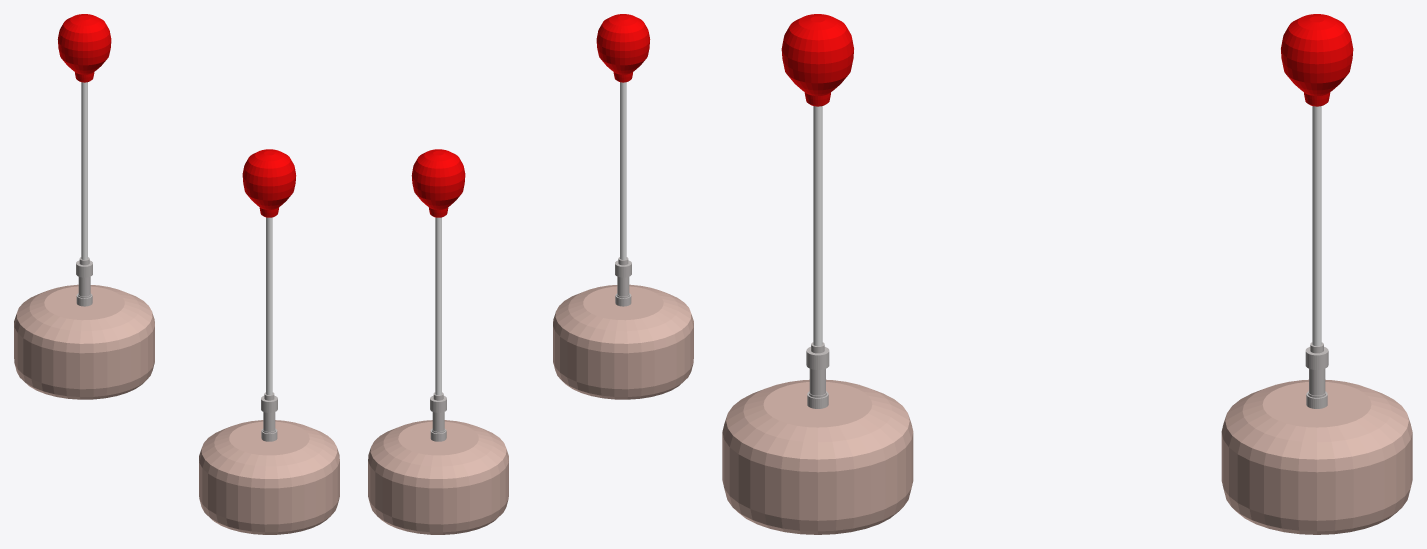
Rendered from costalito.obj.
The picture shows the model from 3 angles, left to right: view 1: azimuth 30°, elevation 25°; view 2: azimuth 150°, elevation 25°; view 3: azimuth 270°, elevation 25°; orthographic projection. The views are drawn at different scales.
Visible parts, largest first — view 1: Costalito, costalito:Costalito; view 2: costalito:Costalito, Costalito; view 3: Costalito, costalito:Costalito.
Part boxes in pixels (bbox=[...]): Costalito: bbox=[14, 14, 154, 399]; costalito:Costalito: bbox=[199, 149, 339, 534]; costalito:Costalito: bbox=[553, 14, 693, 399]; Costalito: bbox=[368, 149, 508, 534]; Costalito: bbox=[1221, 14, 1412, 534]; costalito:Costalito: bbox=[722, 14, 913, 534].
Size of the model in its own units: 4.83 by 13.37 by 17.45.
2 materials, 2 textured.
